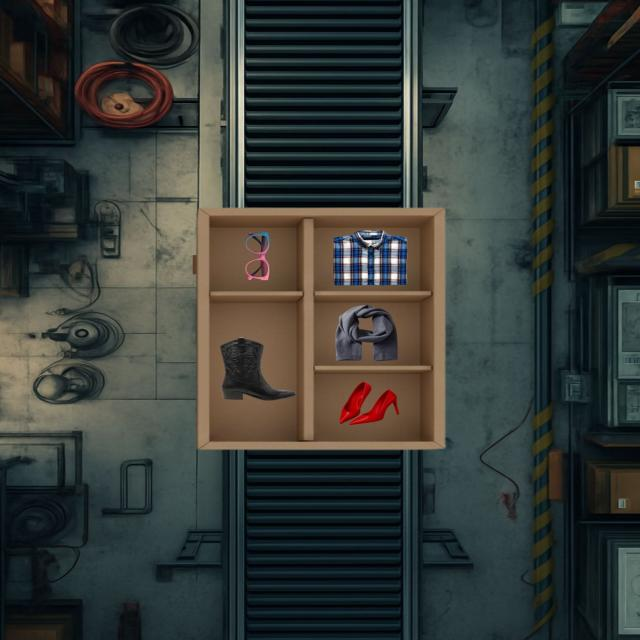boot: (220, 337, 294, 400)
heel: (350, 390, 399, 424), (339, 382, 371, 424)
scarf: (335, 305, 397, 360)
shirt: (334, 230, 407, 285)
sunglasses: (245, 232, 269, 280)
